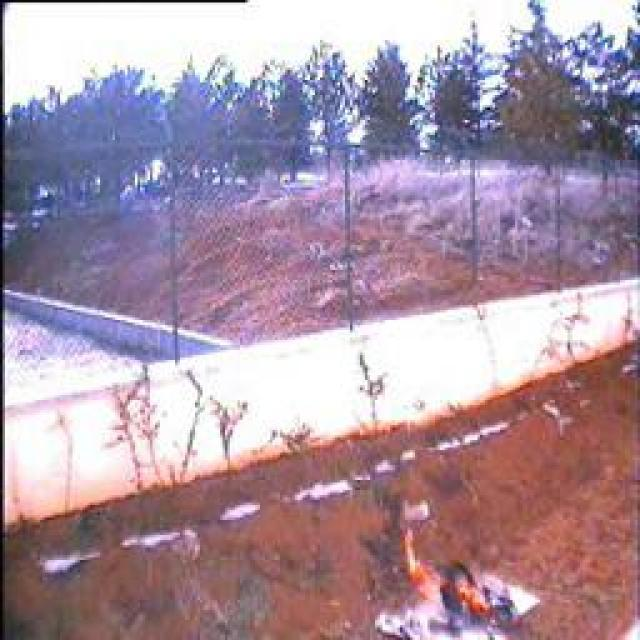Fire: (405, 532, 513, 628)
